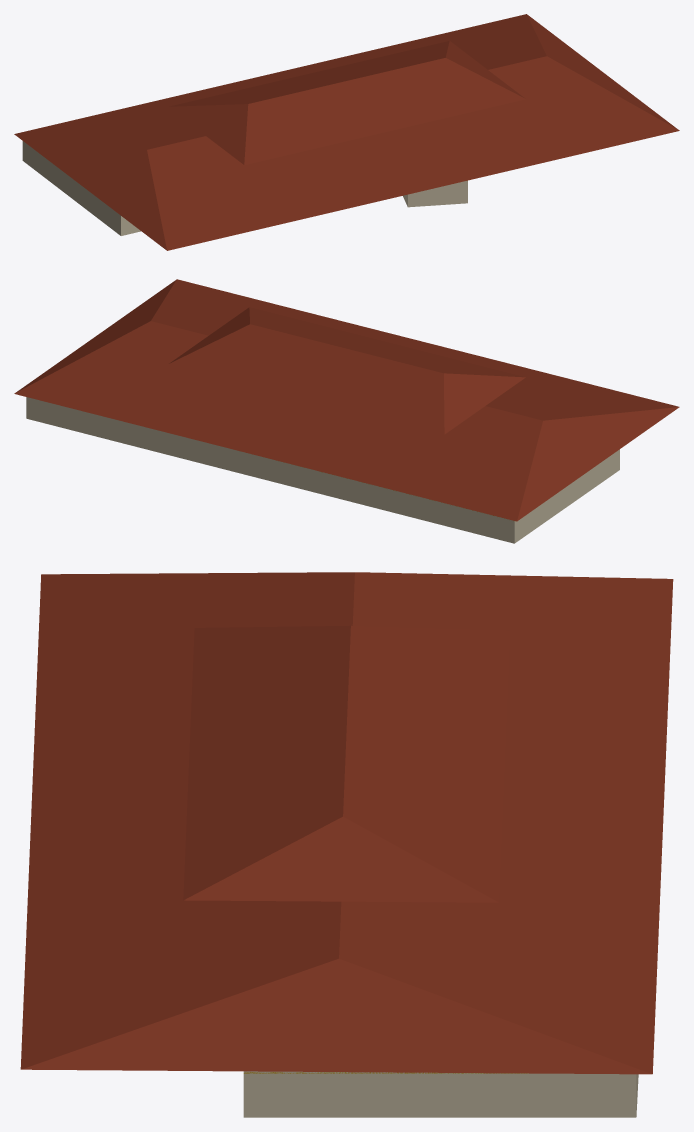
File: balai-adat-melayu-riau-lod2.glb
3 renders of one model, top to bottom at view 1: azimuth 30°, elevation 25°; view 2: azimuth 150°, elevation 25°; view 3: azimuth 270°, elevation 25°, orthographic. The views are drawn at different scales.
Visible parts, largest first — view 1: balai-adat-melayu-riau_LOD2; view 2: balai-adat-melayu-riau_LOD2; view 3: balai-adat-melayu-riau_LOD2.
Boxes of the visible parts, x1,y1,x2,y2 form: balai-adat-melayu-riau_LOD2: (14,14,679,250); balai-adat-melayu-riau_LOD2: (14,279,679,543); balai-adat-melayu-riau_LOD2: (20,572,673,1117).
Bounding box in the file's own units: 146 × 21 × 80.25.
